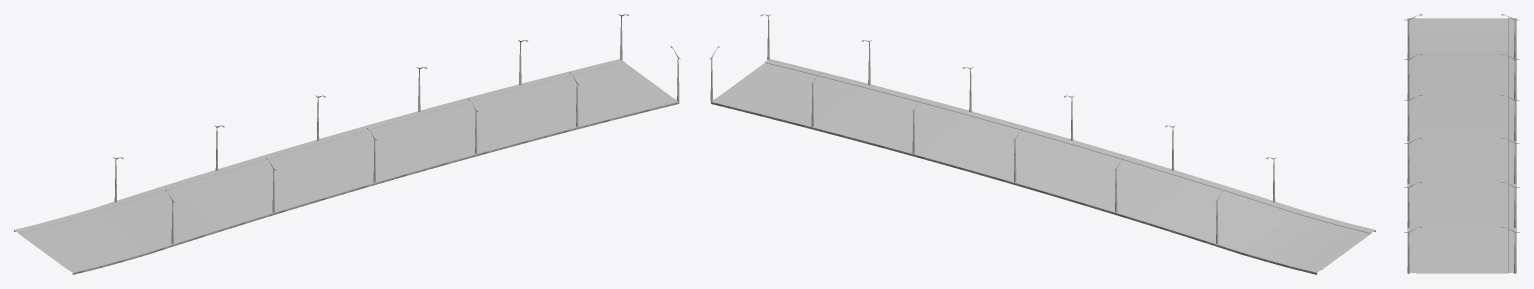
Rendered from Big_Road_down_5.FBX.
The picture shows the model from 3 angles, left to right: view 1: azimuth 30°, elevation 25°; view 2: azimuth 150°, elevation 25°; view 3: azimuth 270°, elevation 25°; orthographic projection. The views are drawn at different scales.
Parts seen in each view (by area): view 1: Big_Road_down_5; view 2: Big_Road_down_5; view 3: Big_Road_down_5, City075, City086, City076, City079, City085, City080, City081, City082, City083, City077, City078 (+1 smaller).
Boxes of the visible parts, box(x1,y1,x2,y2) form: Big_Road_down_5: box(14, 59, 679, 274); Big_Road_down_5: box(711, 59, 1375, 274); Big_Road_down_5: box(1407, 18, 1516, 273); City075: box(1501, 226, 1519, 273); City086: box(1404, 226, 1422, 273); City076: box(1501, 181, 1519, 227); City079: box(1404, 181, 1422, 227); City085: box(1404, 94, 1422, 141); City080: box(1501, 94, 1519, 141); City081: box(1501, 137, 1519, 183); City082: box(1501, 14, 1519, 60); City083: box(1404, 14, 1422, 60); City077: box(1501, 53, 1519, 99); City078: box(1404, 53, 1422, 99).
Bounding box in the file's own units: 13552 × 1598 × 2394.
